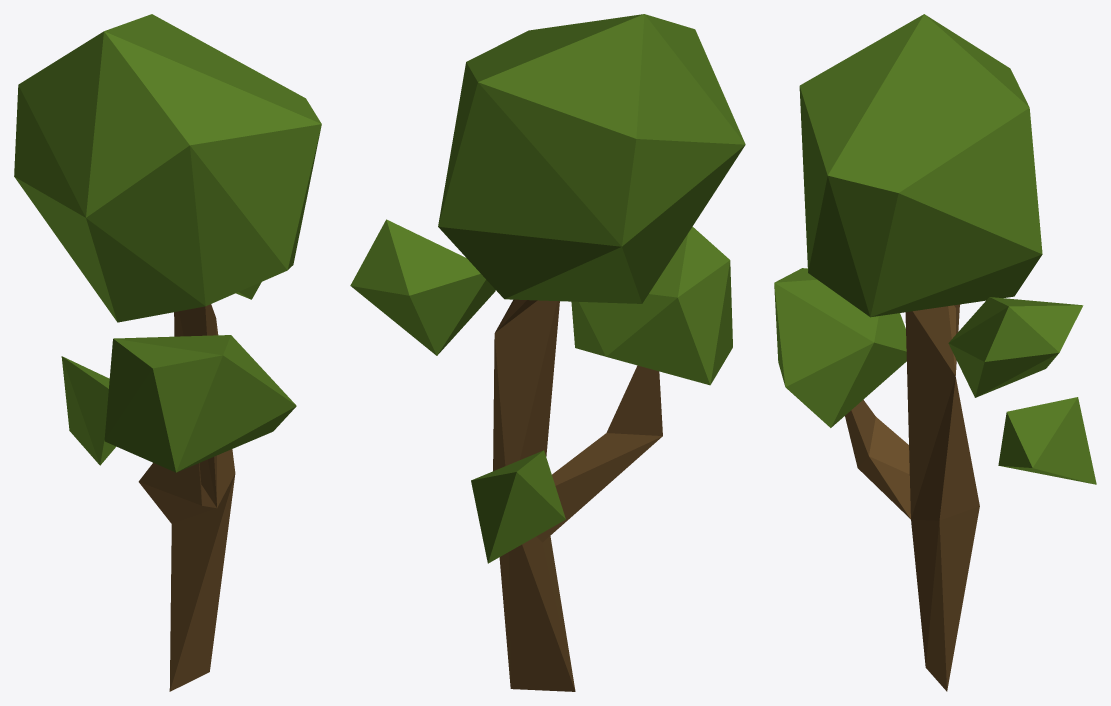
File: temp-decid.moderate-op0.2.gltf
3 views of the same model, side by side, from view 1: azimuth 30°, elevation 25°; view 2: azimuth 150°, elevation 25°; view 3: azimuth 270°, elevation 25° (orthographic). The views are drawn at different scales.
Visible parts, largest first — view 1: Tree1_2; view 2: Tree1_2; view 3: Tree1_2.
Boxes of the visible parts, x1,y1,x2,y2 form: Tree1_2: [14, 14, 321, 691]; Tree1_2: [350, 14, 745, 691]; Tree1_2: [774, 14, 1096, 691].
Bounding box in the file's own units: 2.62 × 6 × 2.81.
Materials: 1 (1 with a texture image).
